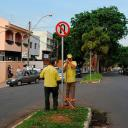NoVirarU: (56, 22, 70, 36)
